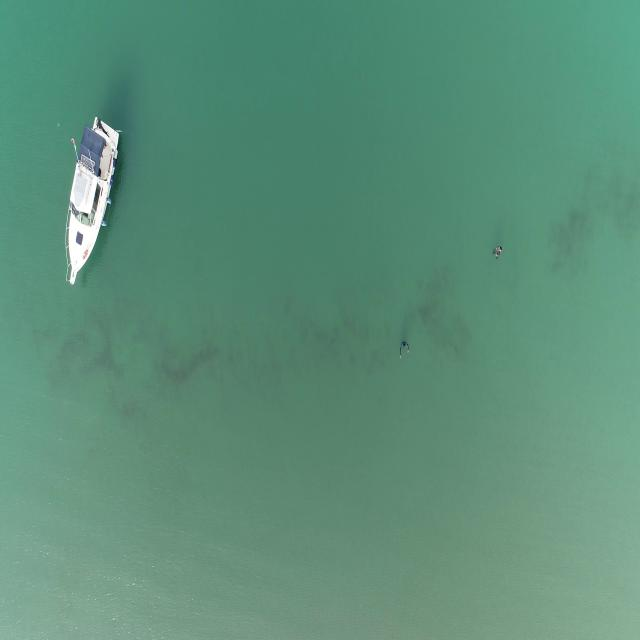boat: (60, 116, 121, 291)
person: (398, 338, 412, 361), (491, 243, 502, 269)
